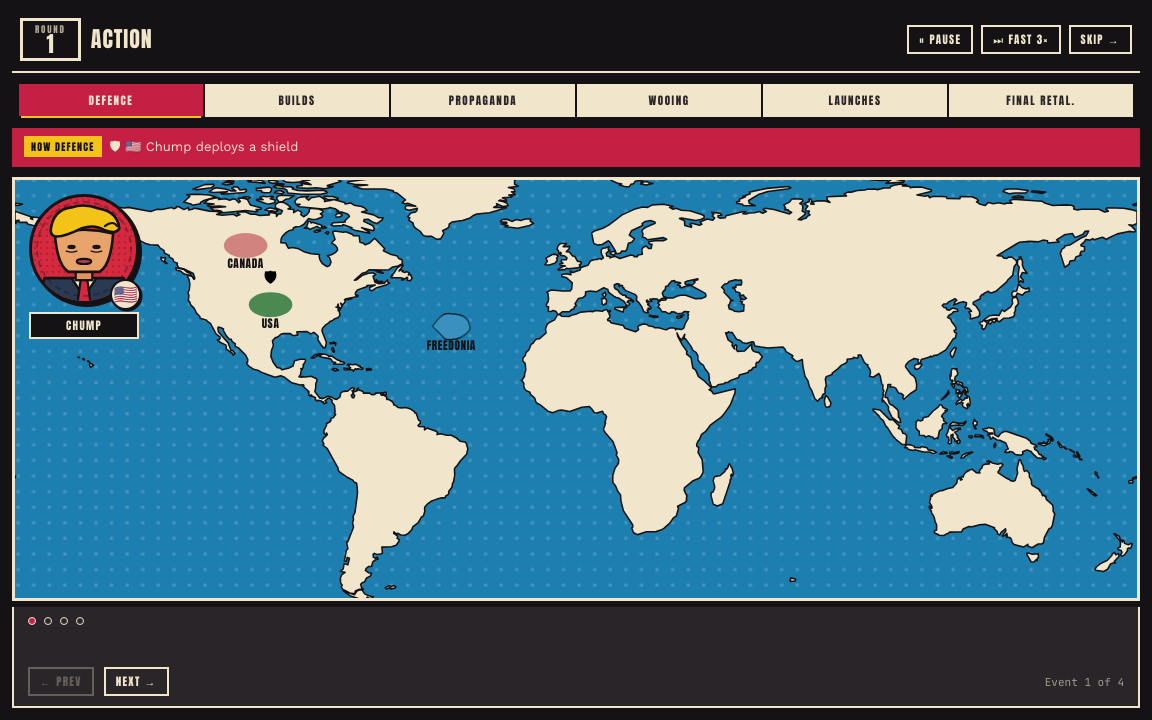
Test case: <Action> playback › labels the last-step exit TO THE VERDICT → when the game has an outcome
The image size is (1152, 720).
Click the button "NEXT →" at [136, 682], box [104, 667, 169, 696]
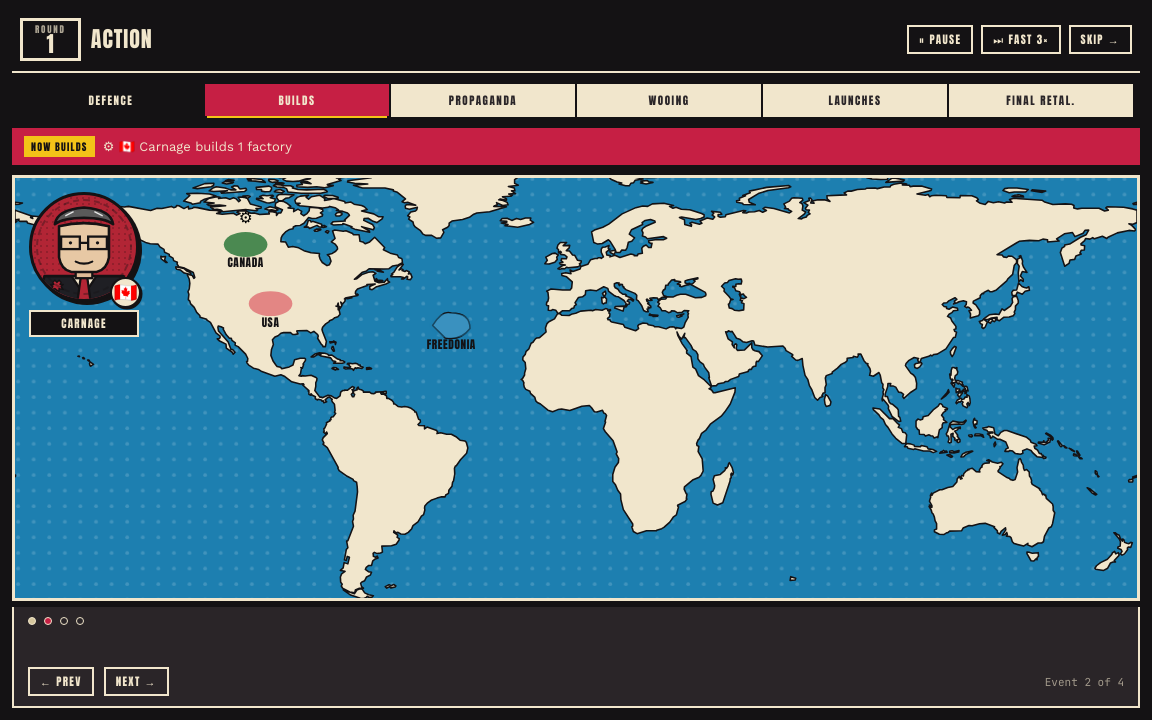
Click the button "NEXT →" at [136, 682], box [104, 667, 169, 696]
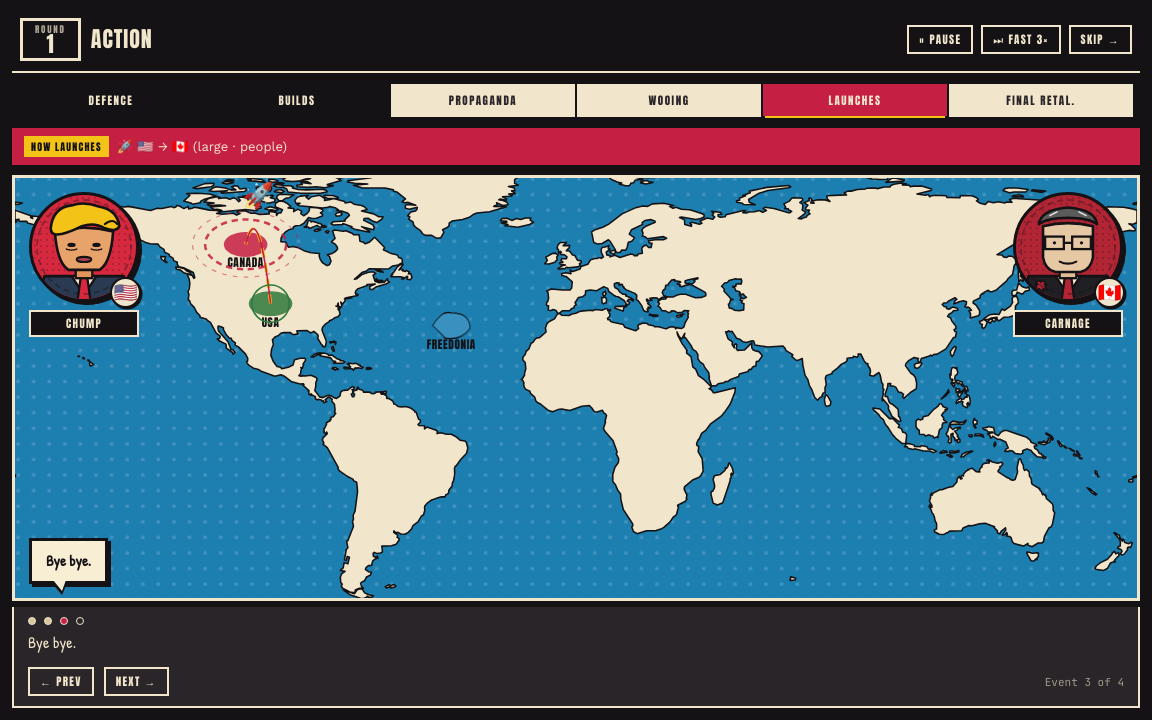
Click the button "NEXT →" at [136, 682], box [104, 667, 169, 696]
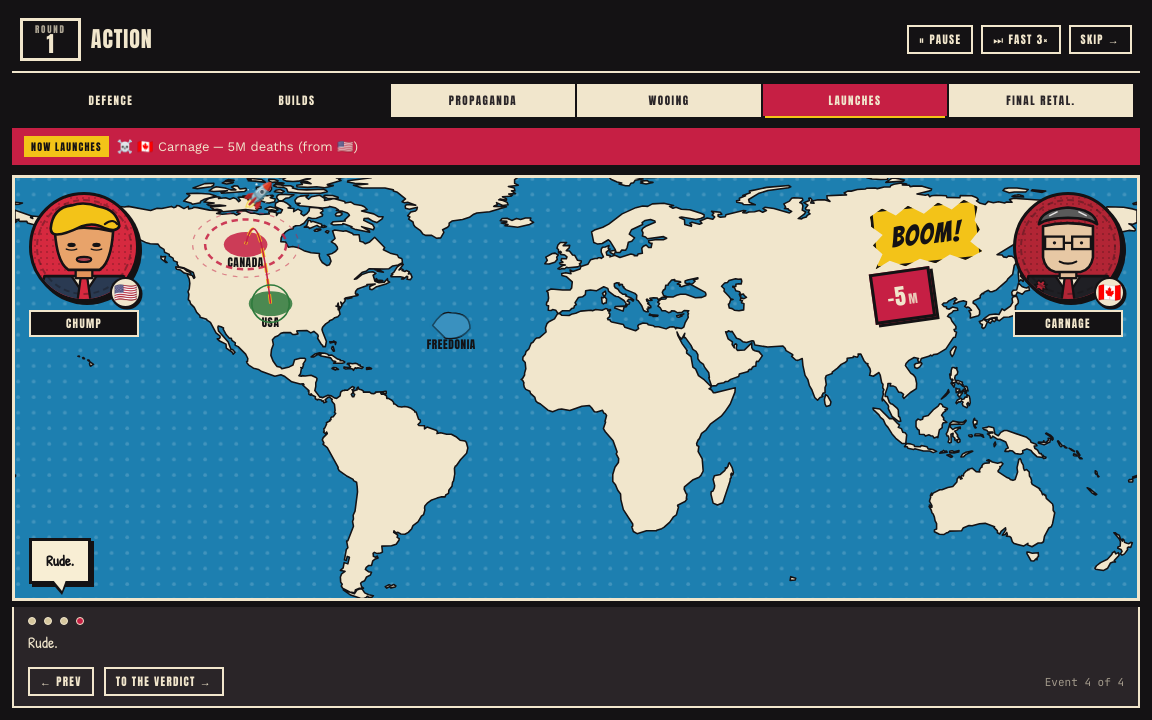
Check: the button "TO THE VERDICT →" is shown, box [104, 667, 224, 696]
